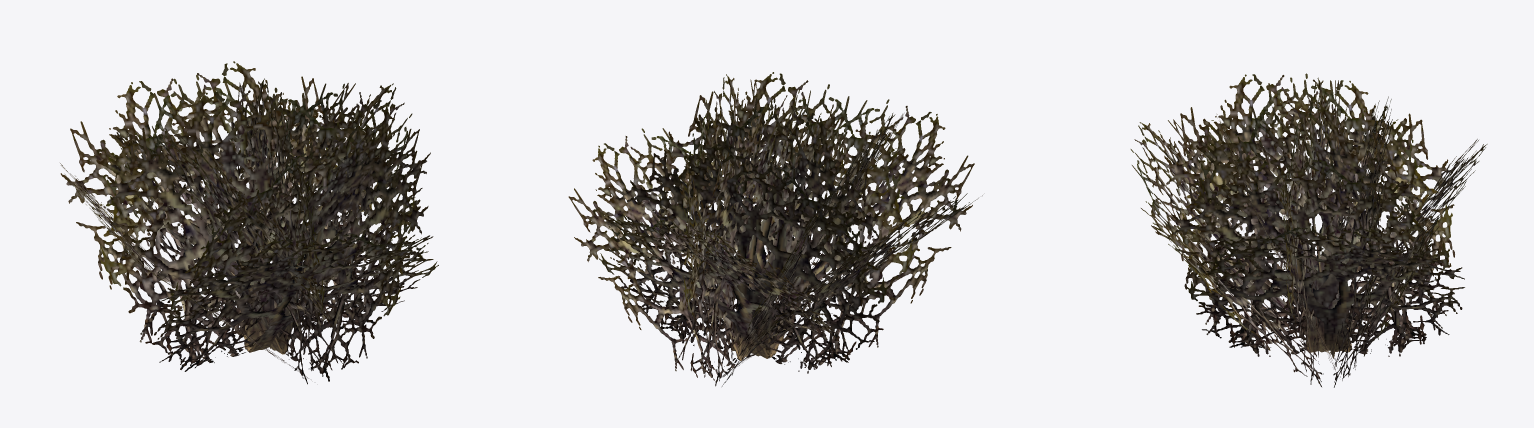
File: Foliage_Bush_Spiky5X5_01.glb
The picture shows the model from 3 angles, left to right: view 1: azimuth 30°, elevation 25°; view 2: azimuth 150°, elevation 25°; view 3: azimuth 270°, elevation 25°; orthographic projection. The views are drawn at different scales.
Parts seen in each view (by area): view 1: FOLIAGE_BUSH_SPIKY5X5_01; view 2: FOLIAGE_BUSH_SPIKY5X5_01; view 3: FOLIAGE_BUSH_SPIKY5X5_01.
Boxes of the visible parts, left/top/right/bottom form: FOLIAGE_BUSH_SPIKY5X5_01: left=60, top=61, right=438, bottom=384; FOLIAGE_BUSH_SPIKY5X5_01: left=568, top=72, right=982, bottom=386; FOLIAGE_BUSH_SPIKY5X5_01: left=1130, top=73, right=1487, bottom=387.
Bounding box in the file's own units: 1.51 × 1 × 1.47.
1 material, 1 textured.
